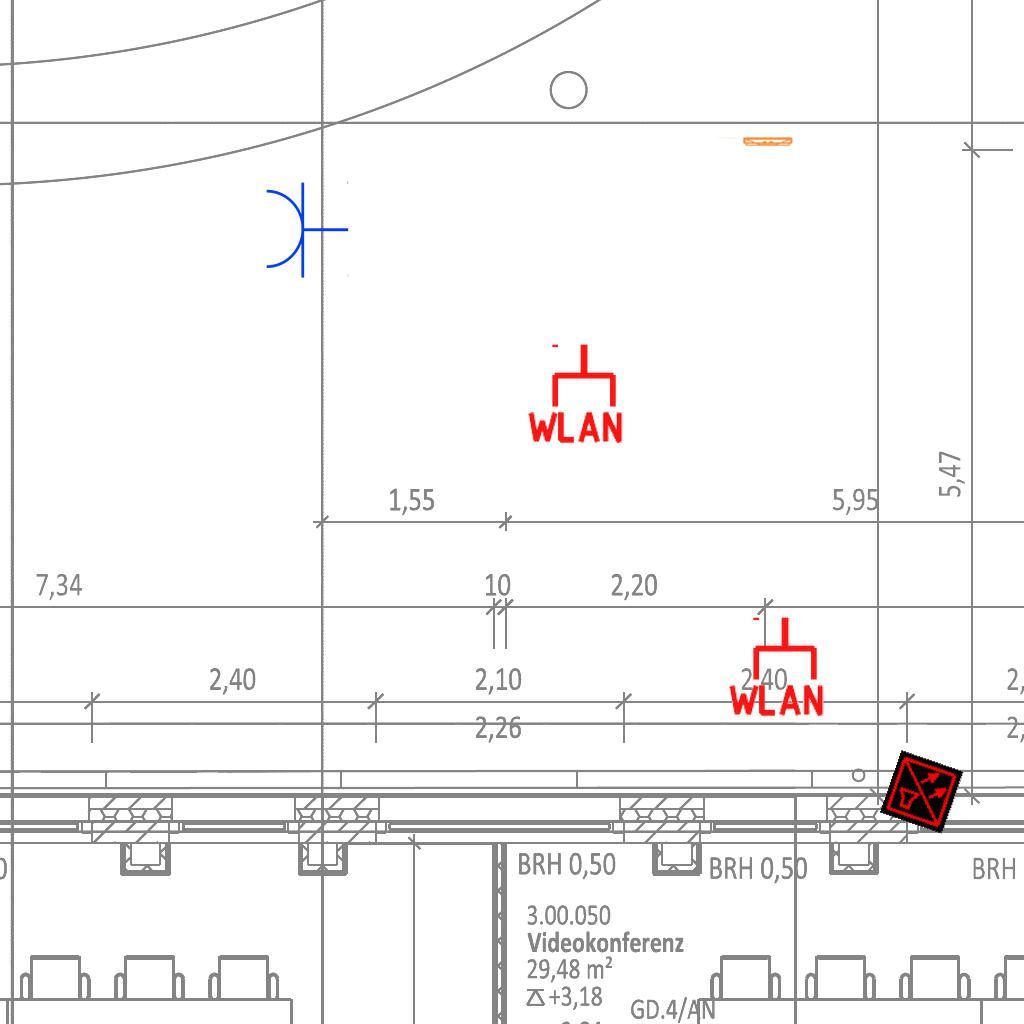OKW_Multisensormelder_(Kombination_optischer_Rauch-Kahlenmonoxid_Waerme-Melder): (880, 750, 964, 834)
Schukosteckdose_einfach: (262, 179, 349, 279)
Sicherheitsleuchte_Wandeinbau: (716, 136, 795, 148)
WLAN: (724, 613, 828, 718), (523, 340, 627, 445)
